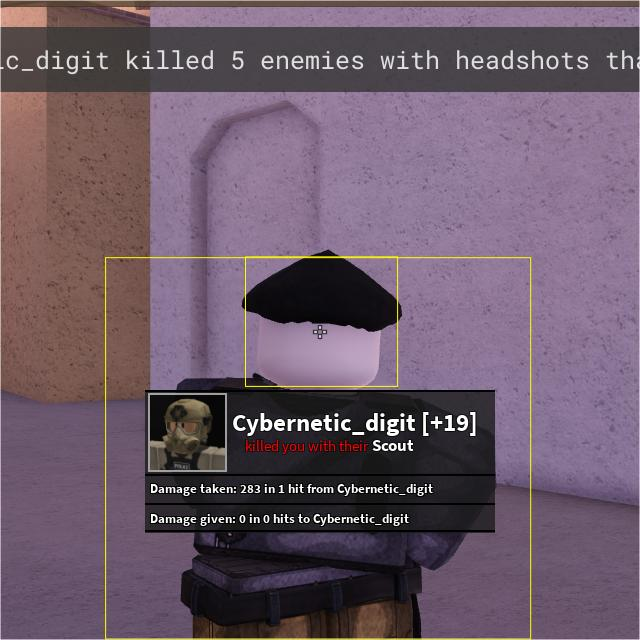Head: (249, 260, 398, 388)
Player: (100, 258, 513, 640)
